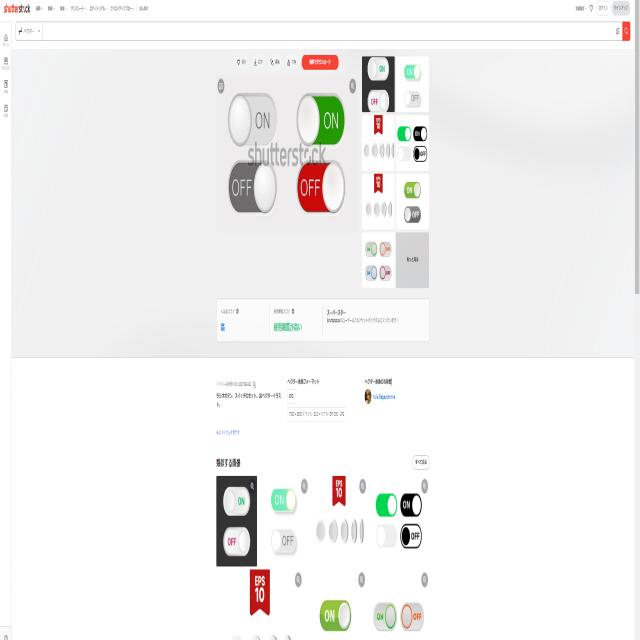toggle: (228, 157, 279, 216), (296, 158, 347, 217), (295, 92, 346, 151), (227, 90, 278, 149), (318, 598, 352, 630), (222, 483, 250, 516), (221, 526, 252, 555), (270, 485, 298, 517), (401, 598, 425, 630), (269, 528, 297, 555), (398, 488, 424, 517), (374, 490, 400, 519), (398, 522, 424, 550), (374, 601, 398, 631), (367, 53, 390, 84), (367, 88, 390, 116), (404, 203, 423, 225), (402, 61, 421, 82), (412, 144, 428, 163), (412, 124, 428, 142), (396, 123, 412, 141), (364, 263, 379, 282), (379, 261, 392, 282), (378, 241, 392, 259), (364, 240, 378, 258)
